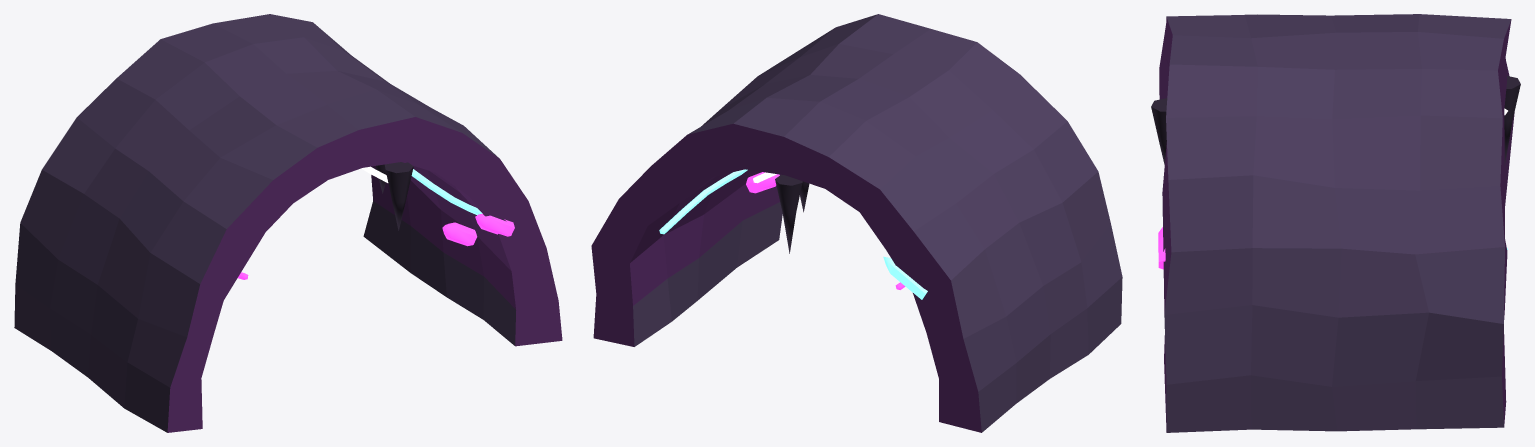
Rendered from W4_CaveTunnel_Straight.fbx.
The picture shows the model from 3 angles, left to right: view 1: azimuth 30°, elevation 25°; view 2: azimuth 150°, elevation 25°; view 3: azimuth 270°, elevation 25°; orthographic projection. The views are drawn at different scales.
Visible parts, largest first — view 1: W4_CaveTunnel_Straight; view 2: W4_CaveTunnel_Straight; view 3: W4_CaveTunnel_Straight.
Part boxes in pixels (x1=…): W4_CaveTunnel_Straight: x1=14, y1=14, x2=562, y2=432; W4_CaveTunnel_Straight: x1=591, y1=14, x2=1122, y2=432; W4_CaveTunnel_Straight: x1=1151, y1=14, x2=1520, y2=432.
Bounding box in the file's own units: 15.28 × 9.78 × 10.97.
